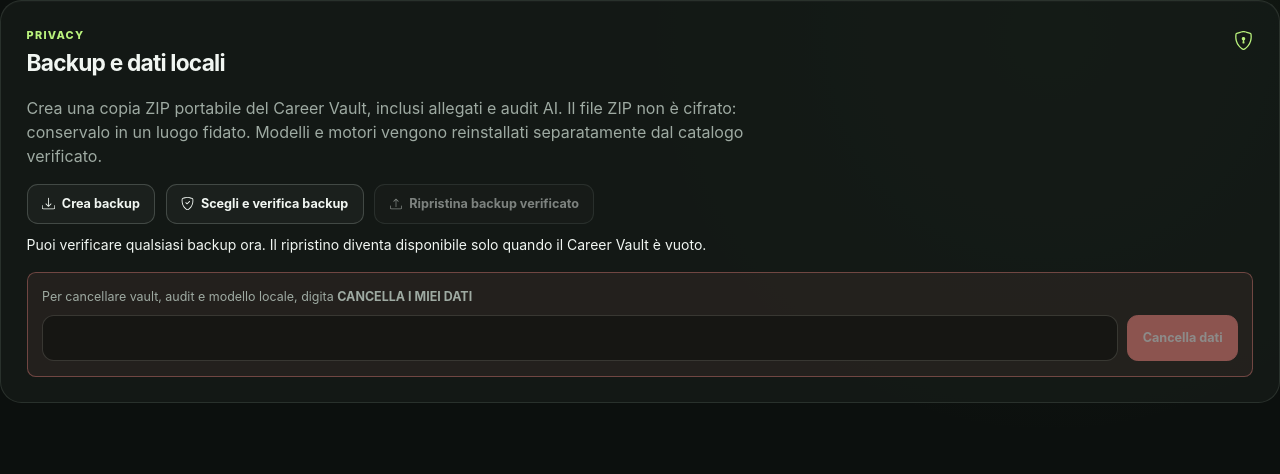
Test case: DataRecoveryPanel › creates a backup with the native desktop dialog
Click the button "Crea backup" at (91, 204), box top-left (27, 184), bottom-right (155, 224)
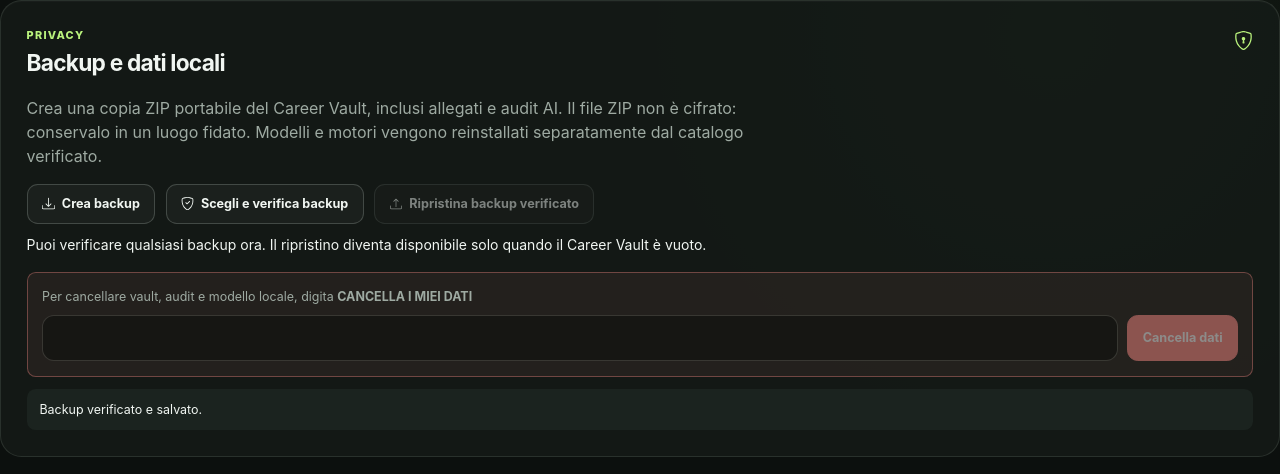
expect the message shows "Backup verificato e salvato": met, box top-left (39, 402), bottom-right (202, 416)
